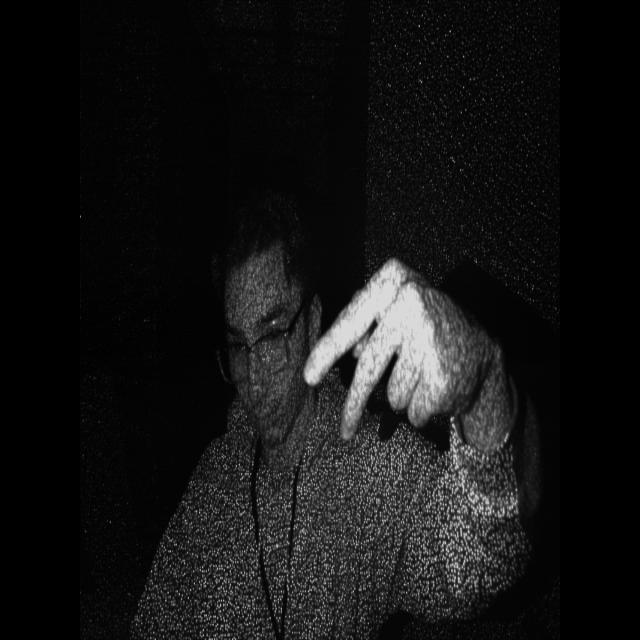P: (293, 244, 514, 455)
